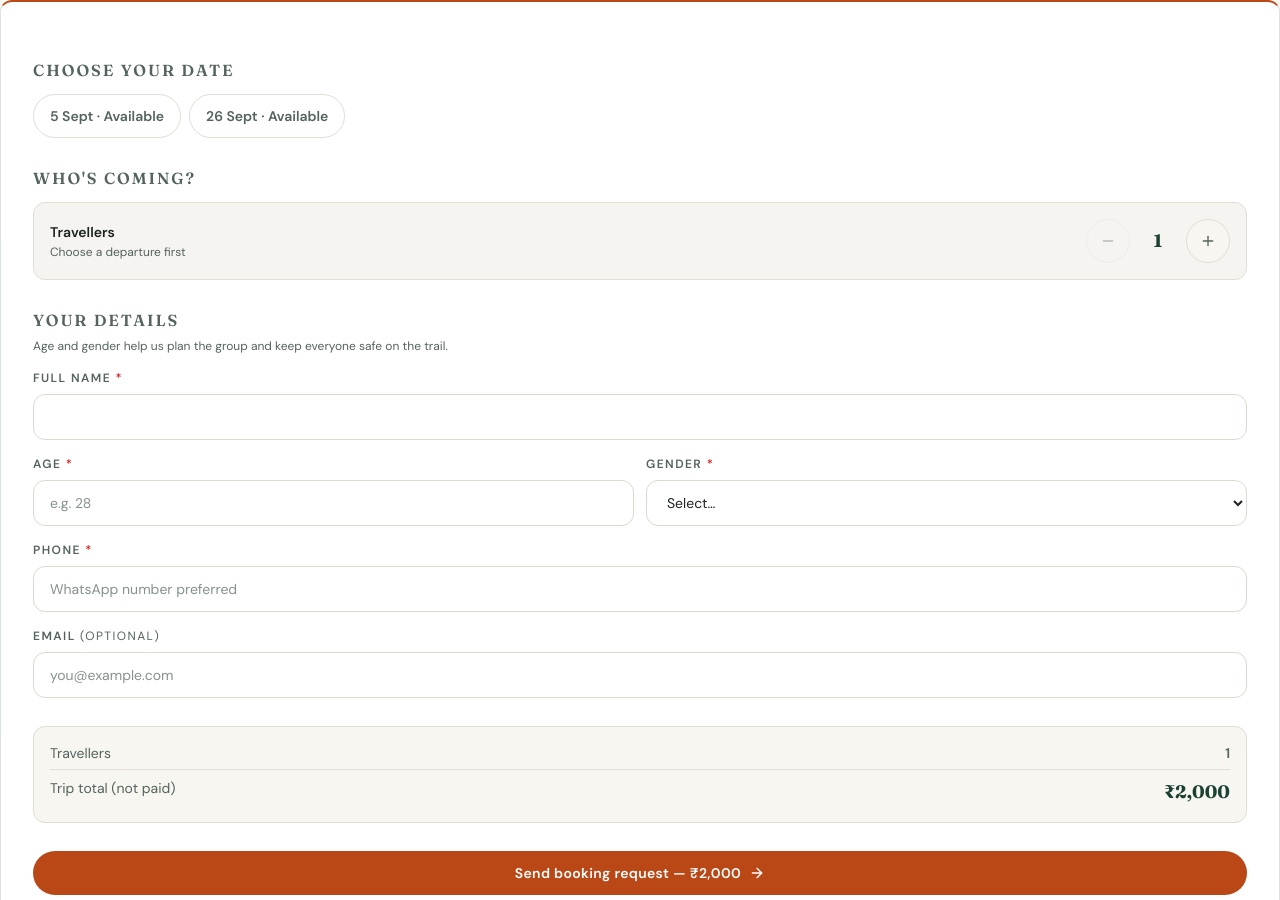
BookingForm › shows inline validation errors instead of submitting when fields are missing
Click the button "Send booking request — ₹2,000" at [640, 873], box [33,851,1247,895]
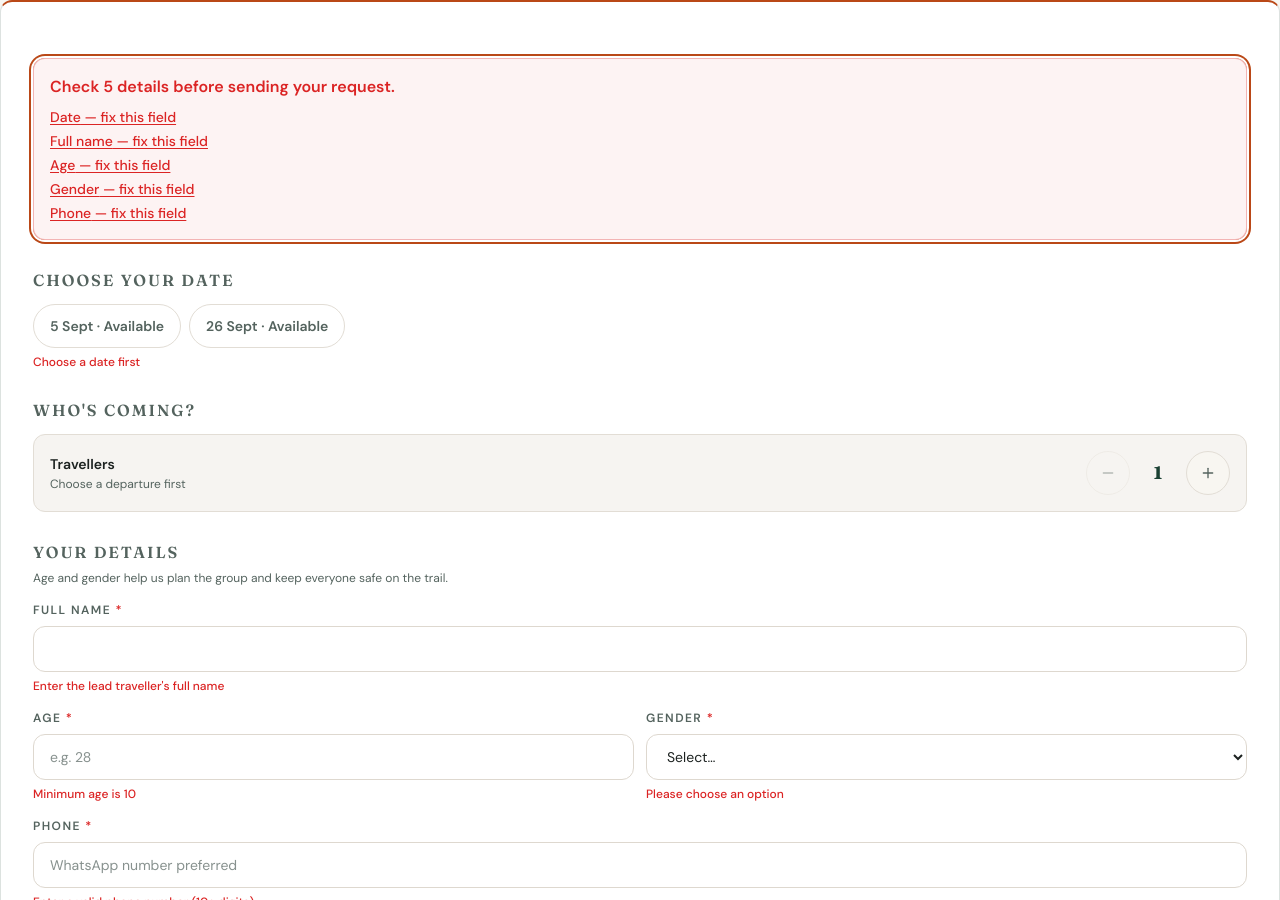
Result: the text "Enter the lead traveller's full name" is shown at [33,678,224,694]
